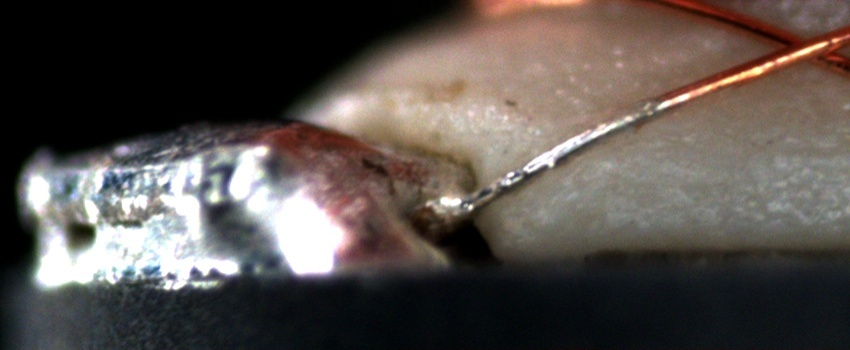CL: (755, 20, 846, 75)
DL: (741, 135, 850, 179)
TS: (467, 99, 663, 211)
